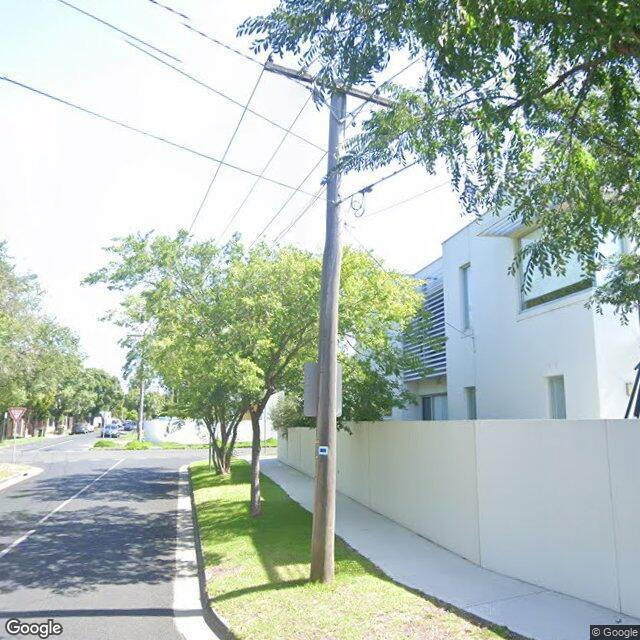crossarm: (264, 61, 398, 108), (126, 333, 146, 337)
timber-pole: (310, 80, 345, 584), (138, 377, 144, 443)
